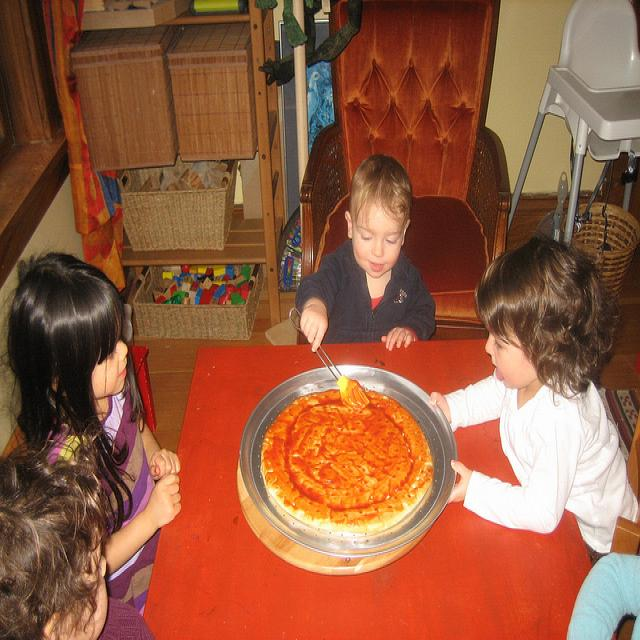chair: (296, 1, 513, 350), (627, 409, 640, 504)
dining table: (140, 338, 591, 633)
